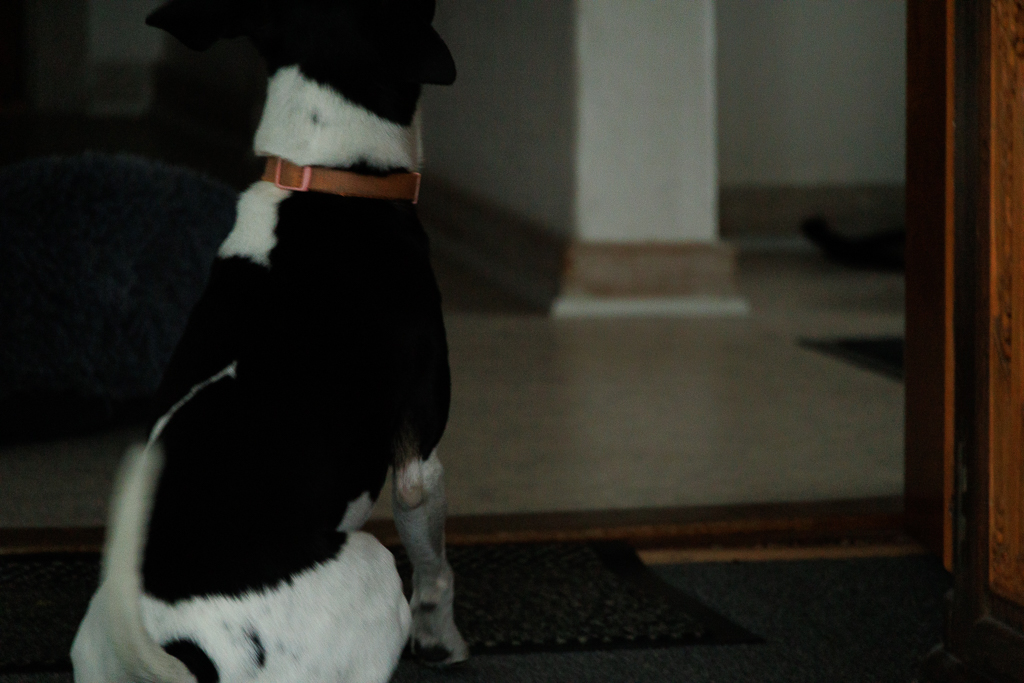Dog: (51, 0, 488, 683)
